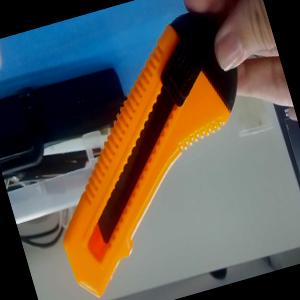estilete: (9, 1, 287, 300)
